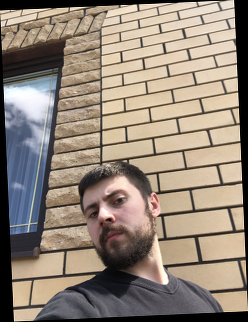without_mask: (84, 186, 155, 271)
